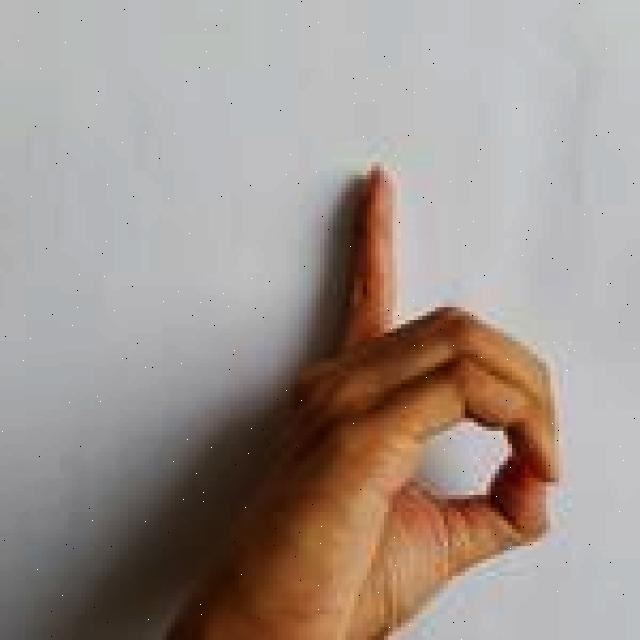D: (170, 161, 562, 640)
